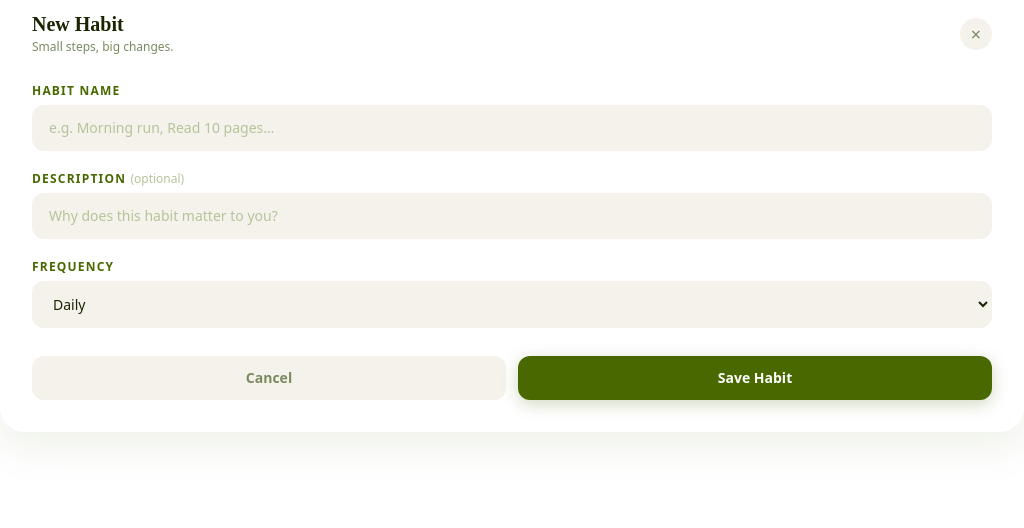
Test: habit form and list › shows a validation error when habit name is empty
The width and height of the screenshot is (1024, 528).
Click the button with test id "habit-save-button". click: {"x": 755, "y": 378}
box: [518,356,992,400]
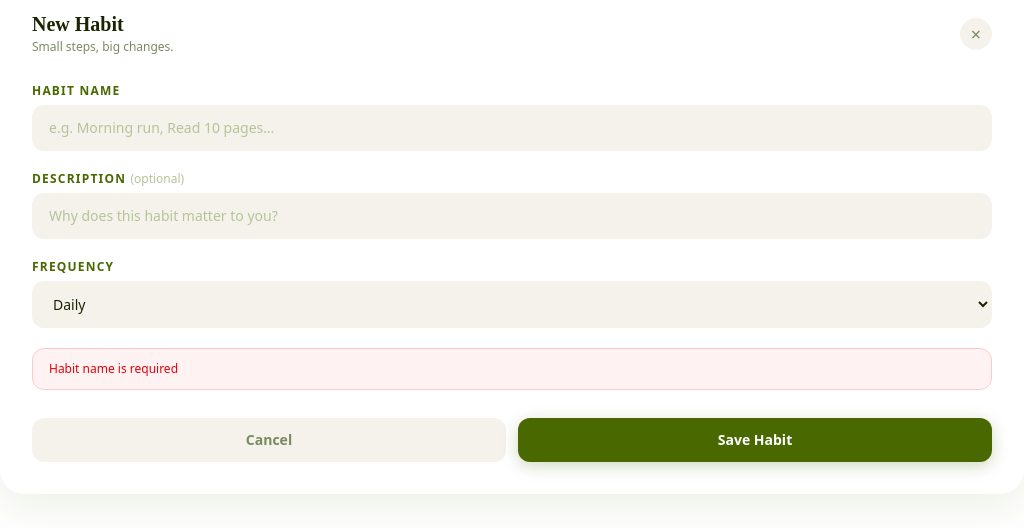
Now the text "Habit name is required" is shown, box [32,348,992,390]
